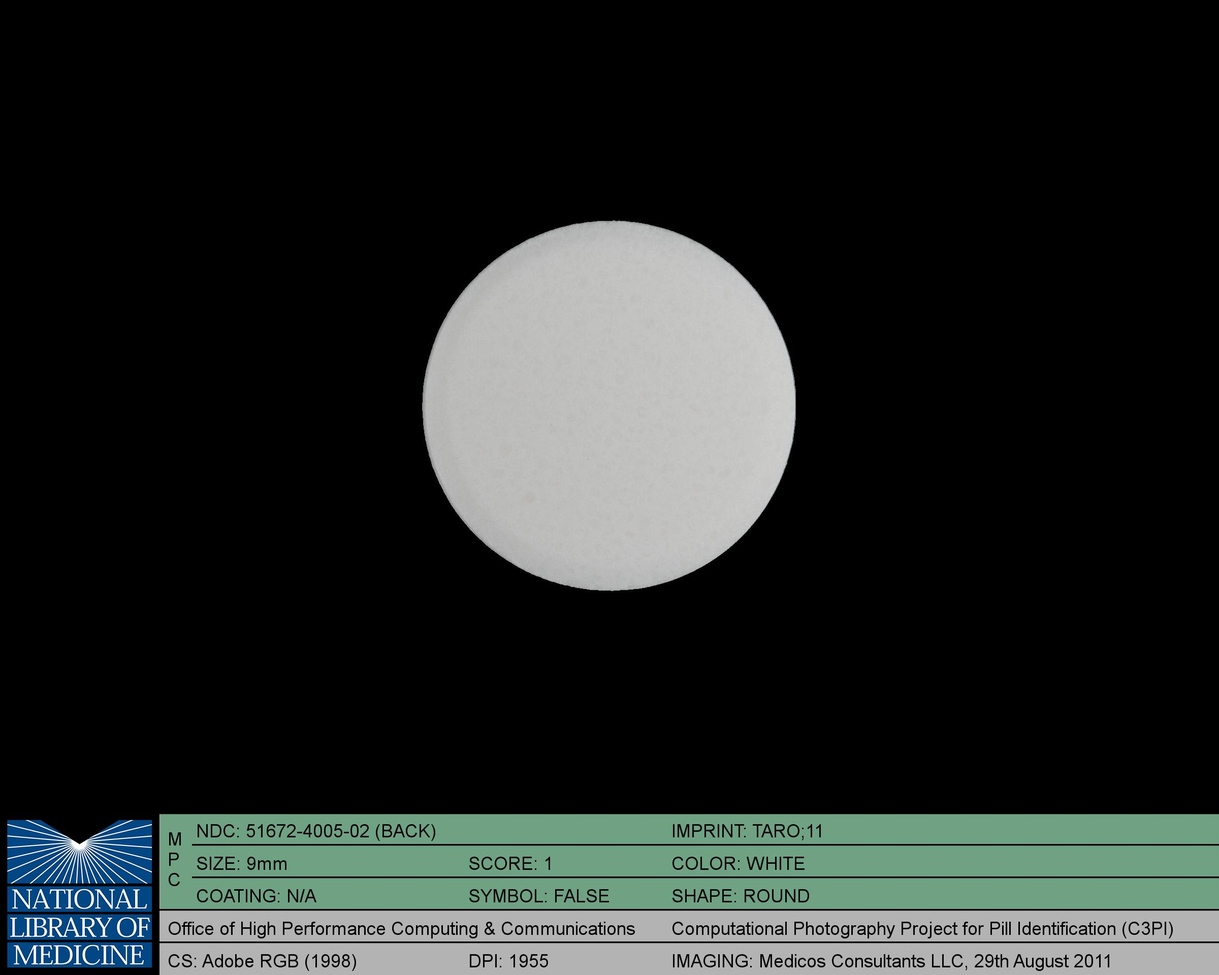Pill: (408, 208, 811, 603)
